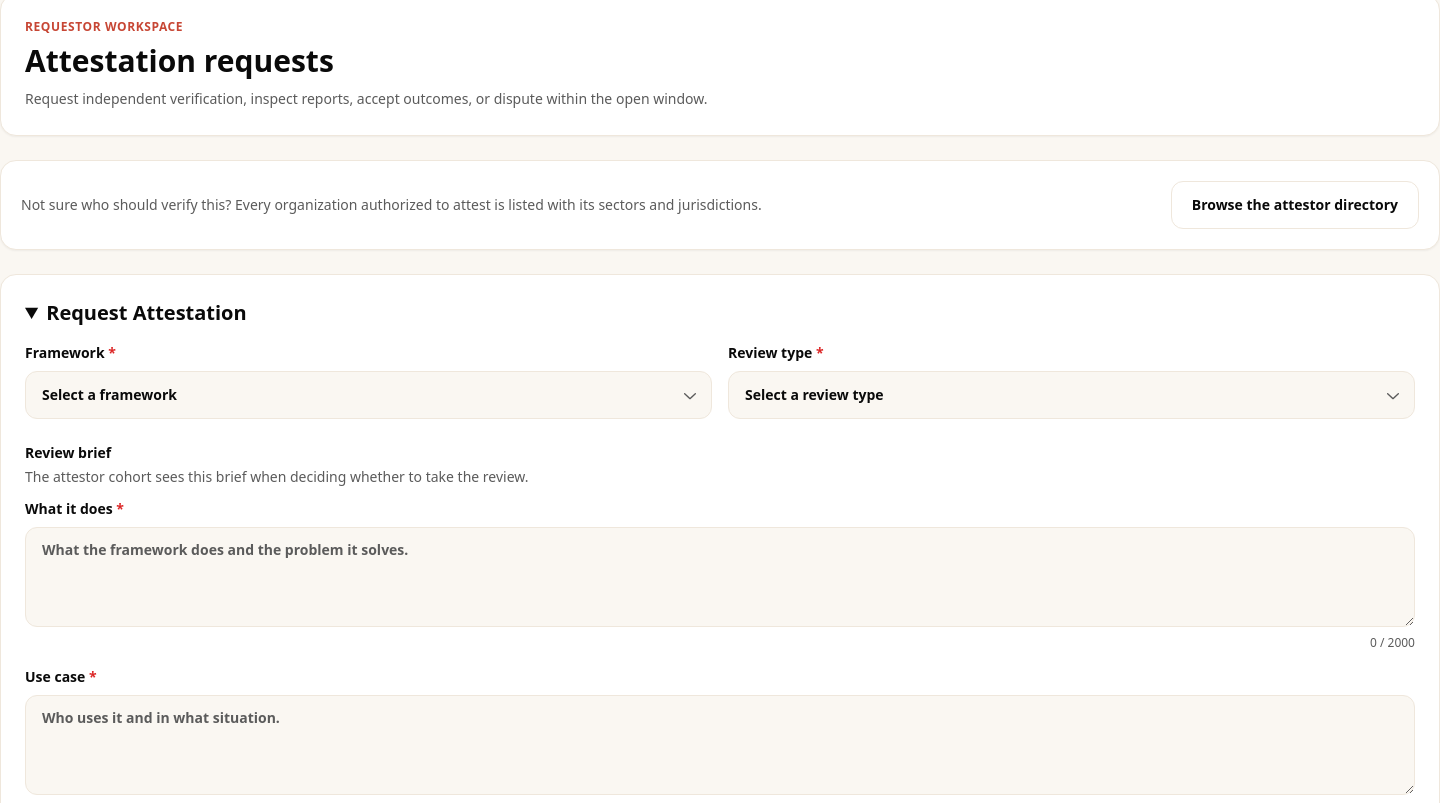
Test: RequestorPanel framework request › shows a requesting state while the request is in flight
Check: the heading "Request Attestation" is shown, box 46,299 -> 247,326
Select "Governance Playbook" in the dropdown labelled "Framework *" at (368, 395), box 25,371 -> 712,419
Select "Quality" in the dropdown labelled "Review type *" at (1072, 395), box 728,371 -> 1415,419
Type "Structures governance decisions." into the text box labelled "What it does *" at (720, 577), box 25,527 -> 1415,627
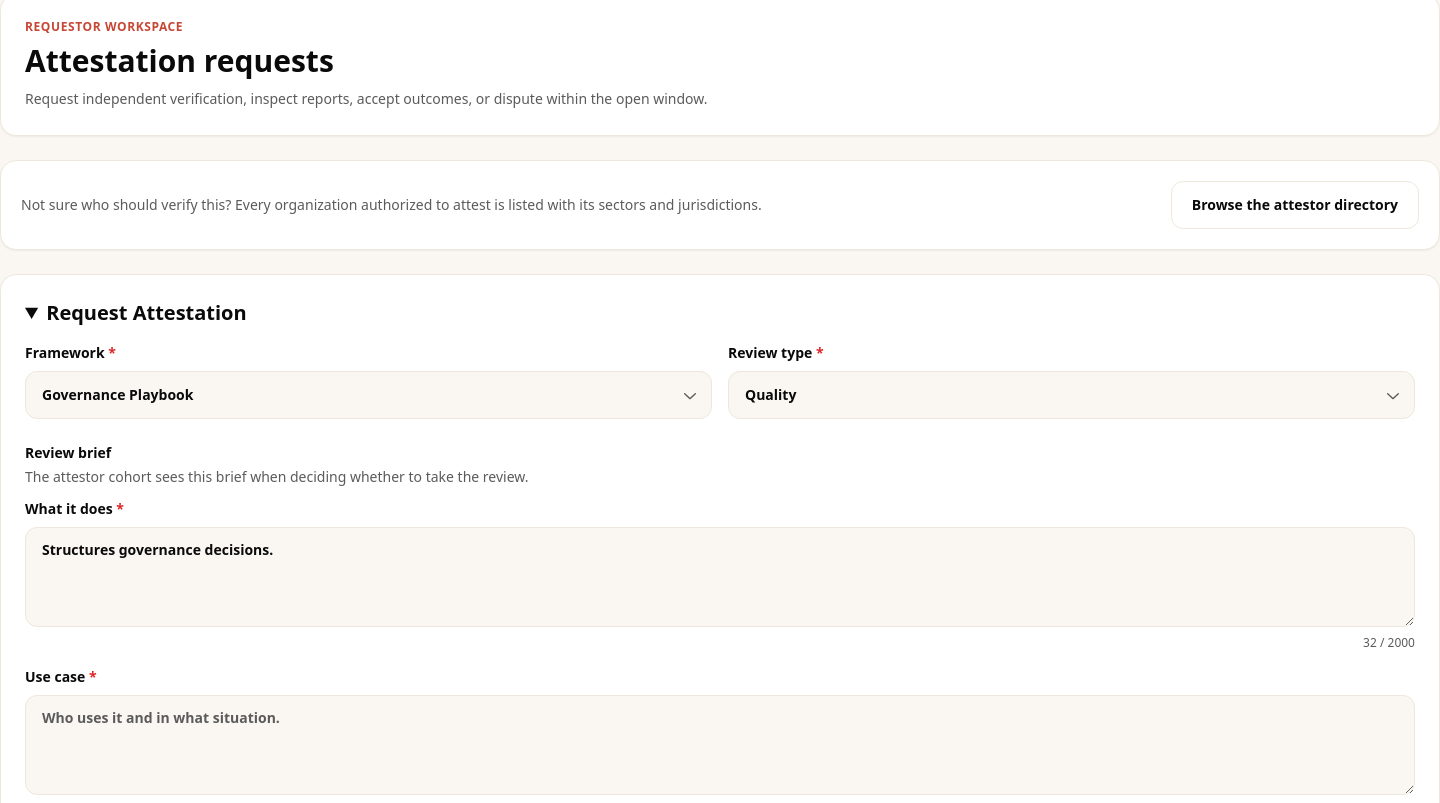
Type "Board oversight." into the text box labelled "Use case *" at (720, 745), box 25,695 -> 1415,795
(page scrolled)
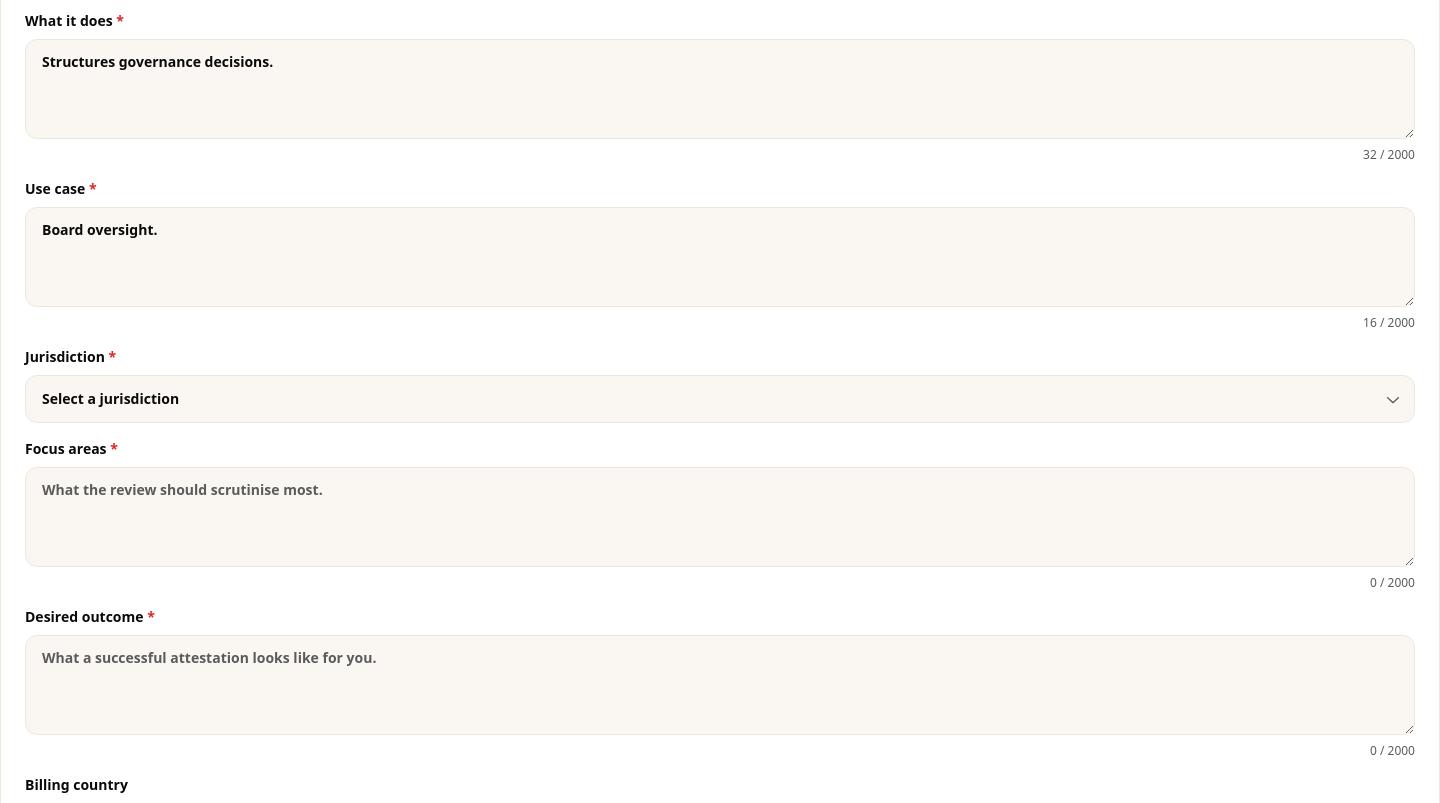
Select "Global" in the dropdown labelled "Jurisdiction *" at (720, 399), box 25,375 -> 1415,423
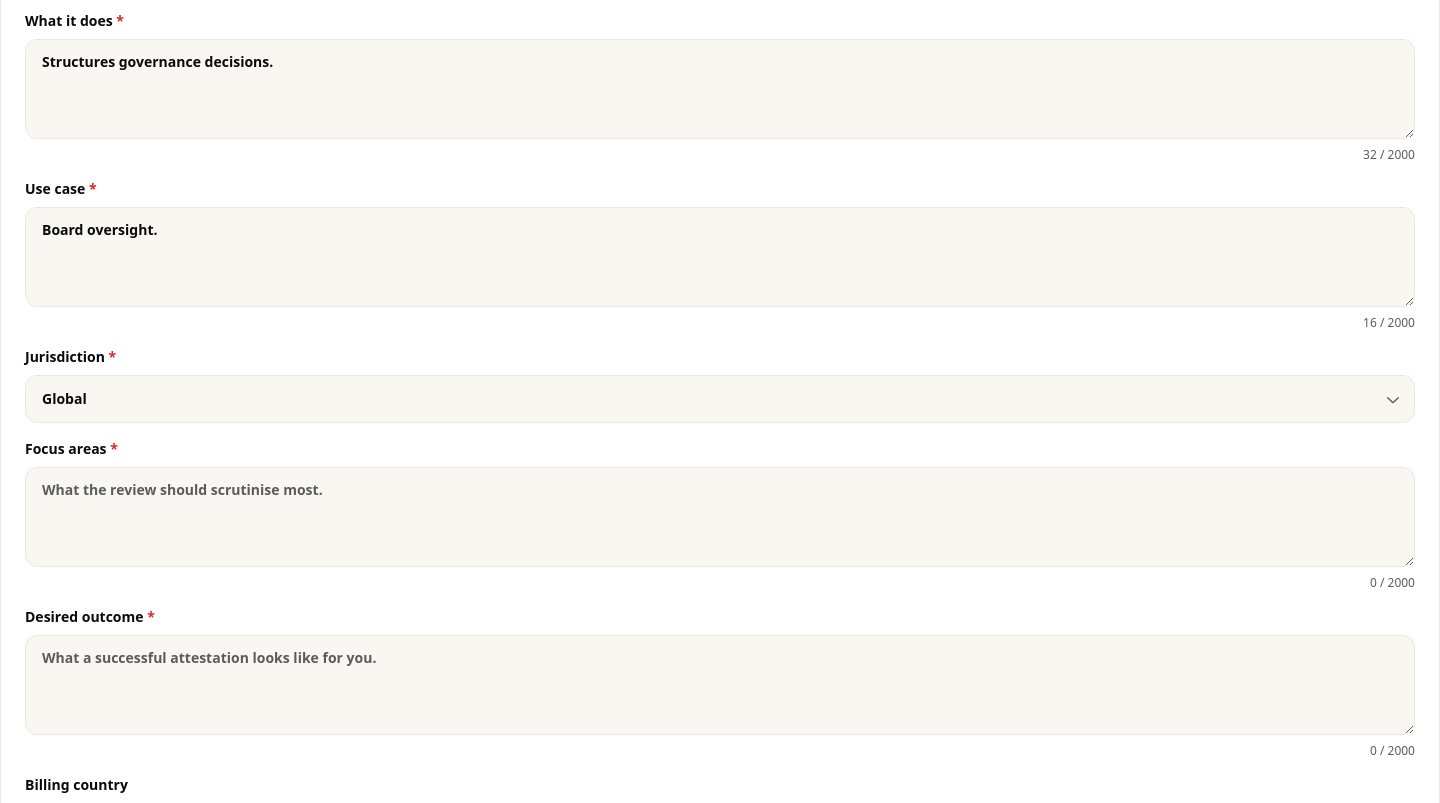
Type "Controls and audit trail." into the text box labelled "Focus areas *" at (720, 517), box 25,467 -> 1415,567
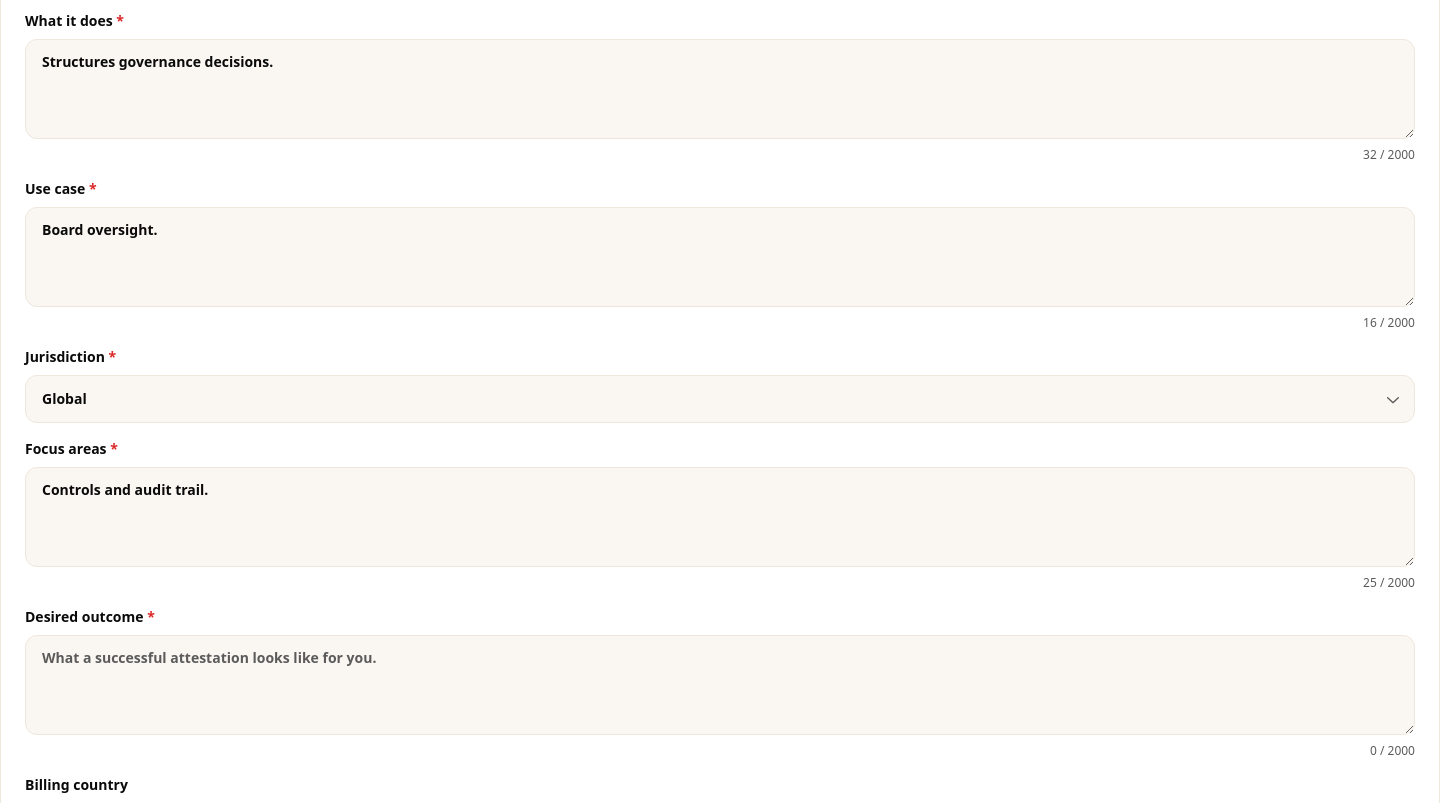
Type "Independent quality sign-off." into the text box labelled "Desired outcome *" at (720, 685), box 25,635 -> 1415,735
(page scrolled)
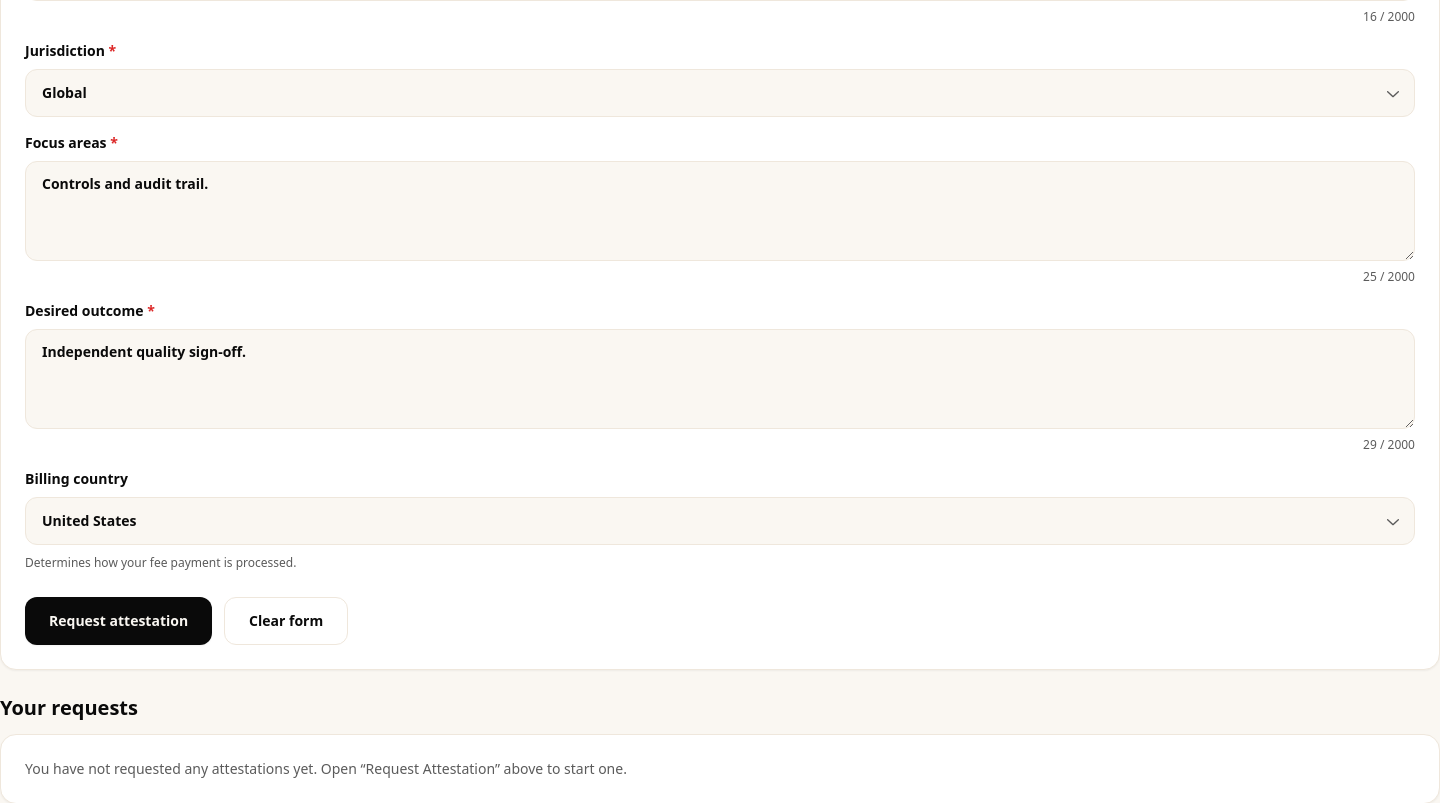
Click the button "Request attestation" at (119, 621), box 25,597 -> 212,645
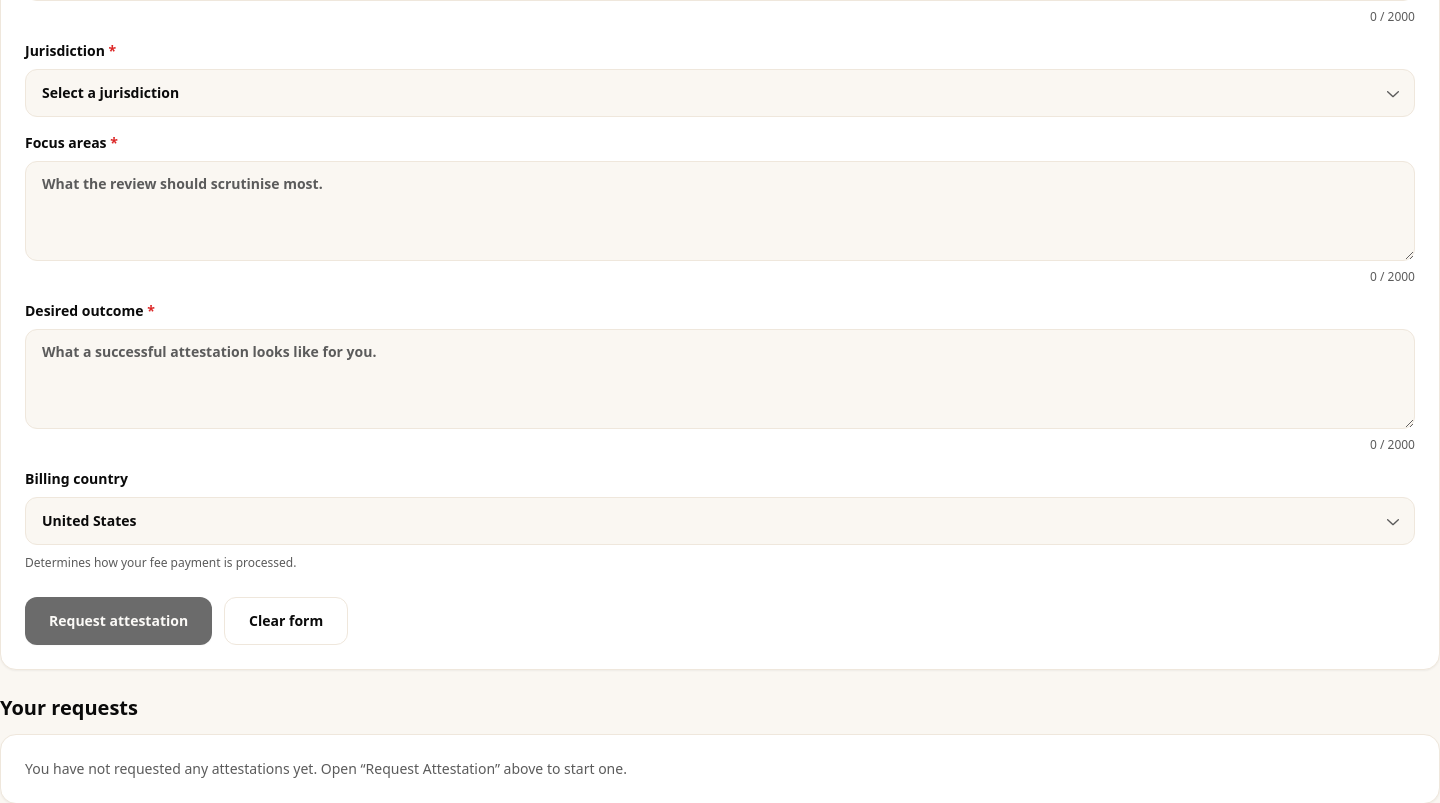
Check: the button named "Requesting" is disabled, box 25,597 -> 212,645
